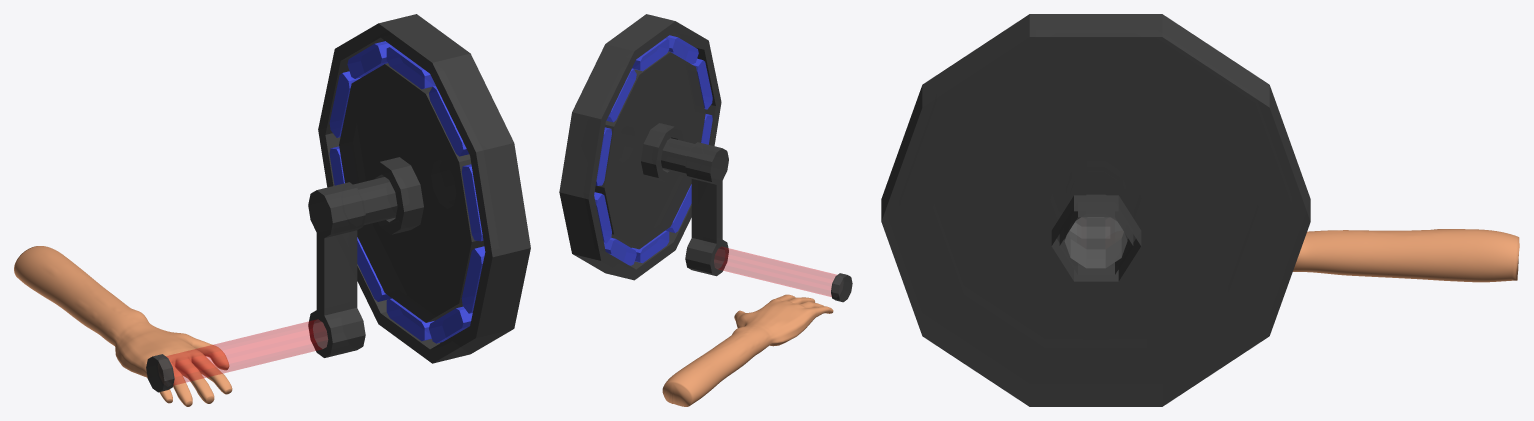
File: hand_crank.fbx
The picture shows the model from 3 angles, left to right: view 1: azimuth 30°, elevation 25°; view 2: azimuth 150°, elevation 25°; view 3: azimuth 270°, elevation 25°; orthographic projection. The views are drawn at different scales.
Visible parts, largest first — view 1: Crank Gun.001, Crank Gun.013, Hand_Mesh.001, Crank Gun.009, Crank Gun.011, Crank Gun.008, Crank Gun.003, Crank Gun.010, Crank Gun.012, Crank Gun.006, Crank Gun.007, Crank Gun.004; view 2: Crank Gun.001, Crank Gun.013, Hand_Mesh.001, Crank Gun.008, Crank Gun.003, Crank Gun.006, Crank Gun.004, Crank Gun.005, Crank Gun.007, Crank Gun.009, Crank Gun.010, Crank Gun.011; view 3: Crank Gun.001, Hand_Mesh.001, Crank Gun.002.
Part boxes in pixels (x1,y1,x2,y2): Crank Gun.001: (318,14,530,363); Crank Gun.013: (146,177,397,392); Hand_Mesh.001: (14,246,232,406); Crank Gun.009: (347,41,392,78); Crank Gun.011: (429,306,472,343); Crank Gun.008: (386,46,435,89); Crank Gun.003: (386,298,433,341); Crank Gun.010: (329,71,361,137); Crank Gun.012: (461,246,485,313); Crank Gun.006: (429,86,468,156); Crank Gun.007: (462,164,483,241); Crank Gun.004: (357,237,391,301); Crank Gun.001: (559,14,721,280); Crank Gun.013: (661,138,852,302); Hand_Mesh.001: (662,294,833,406); Crank Gun.008: (632,38,669,71); Crank Gun.003: (632,230,669,263); Crank Gun.006: (665,35,698,63); Crank Gun.004: (604,237,636,265); Crank Gun.005: (594,192,611,243); Crank Gun.007: (691,58,712,109); Crank Gun.009: (606,68,636,122); Crank Gun.010: (595,127,611,185); Crank Gun.011: (665,184,691,233); Crank Gun.001: (881,14,1310,406); Hand_Mesh.001: (1293,229,1519,282); Crank Gun.002: (1051,195,1141,281).
Bounding box in the file's own units: 161 × 147 × 219.
